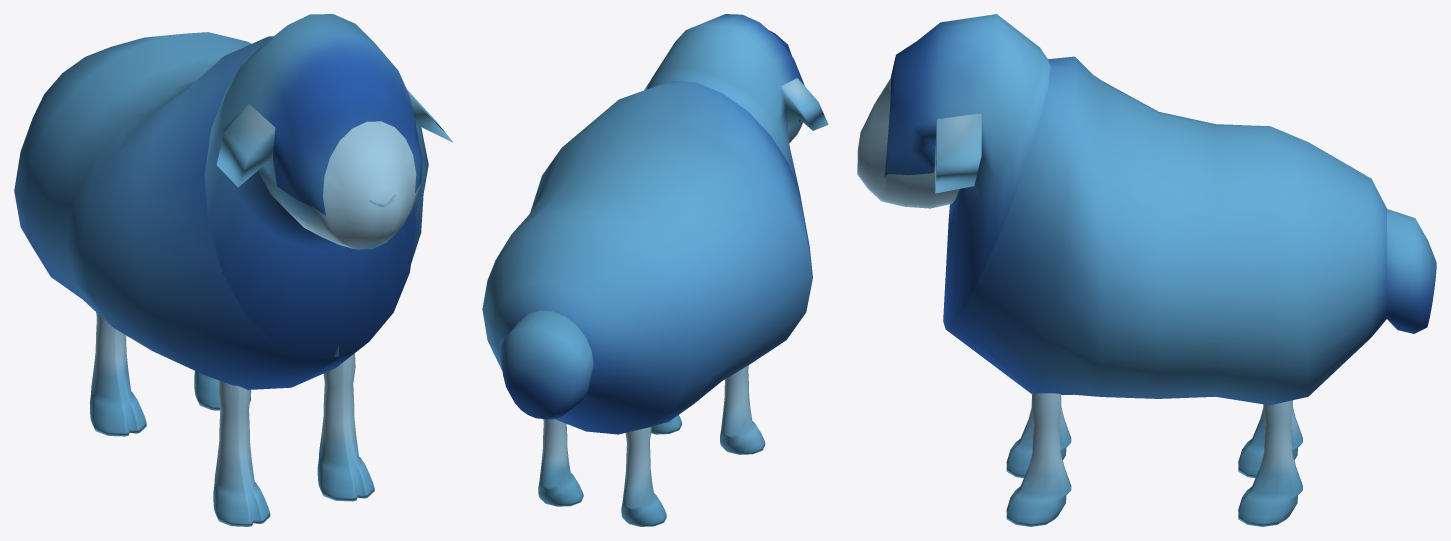
The model's file is Sheep_Blockout.fbx.
3 views of the same model, side by side, from view 1: azimuth 30°, elevation 25°; view 2: azimuth 150°, elevation 25°; view 3: azimuth 270°, elevation 25° (orthographic). The views are drawn at different scales.
Visible parts, largest first — view 1: pCylinder6; view 2: pCylinder6; view 3: pCylinder6.
Boxes of the visible parts, bbox=[...] form: pCylinder6: bbox=[14, 14, 452, 526]; pCylinder6: bbox=[482, 14, 828, 526]; pCylinder6: bbox=[857, 14, 1436, 526].
Bounding box in the file's own units: 11.56 × 15.93 × 17.77.
1 material, 1 textured.
